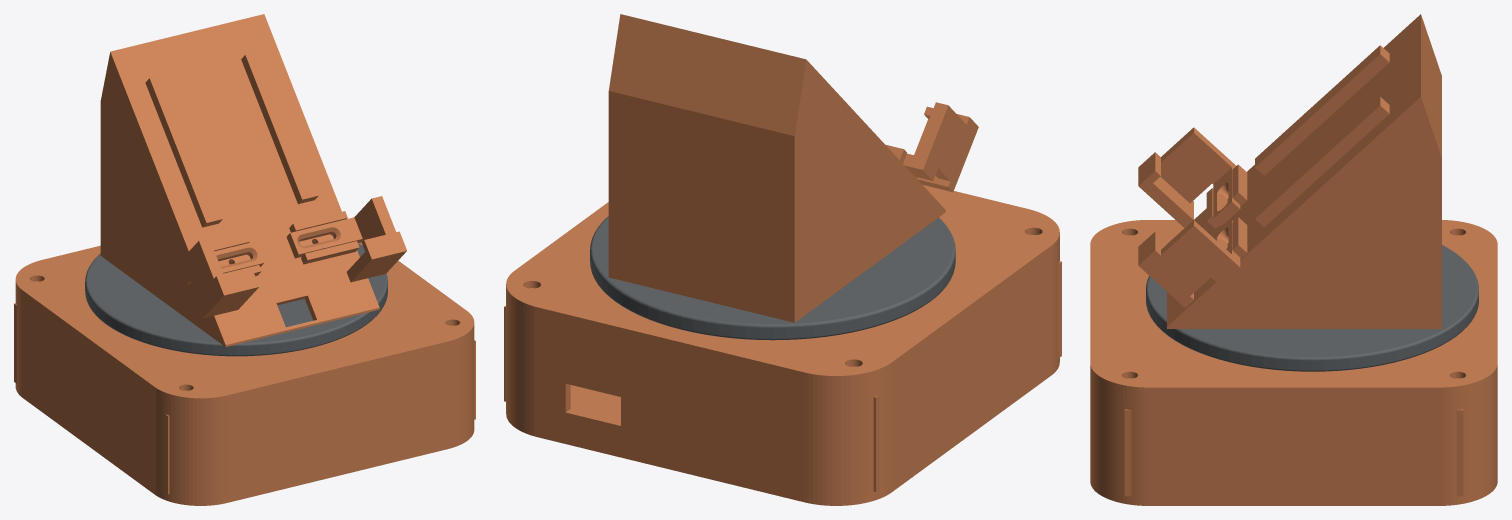
File: HachimoDock-R02.glb
The picture shows the model from 3 angles, left to right: view 1: azimuth 30°, elevation 25°; view 2: azimuth 150°, elevation 25°; view 3: azimuth 270°, elevation 25°; orthographic projection. The views are drawn at different scales.
Parts seen in each view (by area): view 1: 04_Wedge_45deg, 01_Base, 02_Base_Lid, 03_Rotor, 06_Jaw_Right, 05_Jaw_Left; view 2: 04_Wedge_45deg, 01_Base, 02_Base_Lid, 03_Rotor, 05_Jaw_Left; view 3: 04_Wedge_45deg, 01_Base, 02_Base_Lid, 03_Rotor, 05_Jaw_Left, 06_Jaw_Right.
Part boxes in pixels (x1,y1,x2,y2): 04_Wedge_45deg: (100, 14, 379, 346); 01_Base: (14, 299, 475, 505); 02_Base_Lid: (15, 242, 474, 416); 03_Rotor: (85, 243, 387, 356); 06_Jaw_Right: (286, 196, 406, 282); 05_Jaw_Left: (178, 238, 264, 318); 04_Wedge_45deg: (608, 14, 945, 322); 01_Base: (504, 254, 1061, 505); 02_Base_Lid: (506, 185, 1059, 397); 03_Rotor: (590, 216, 955, 340); 05_Jaw_Left: (903, 102, 978, 191); 04_Wedge_45deg: (1167, 14, 1441, 328); 01_Base: (1090, 385, 1497, 505); 02_Base_Lid: (1090, 220, 1497, 407); 03_Rotor: (1146, 245, 1478, 371); 05_Jaw_Left: (1138, 127, 1240, 227); 06_Jaw_Right: (1138, 220, 1240, 307).
Bounding box in the file's own units: 0.15 × 0.153 × 0.154.
